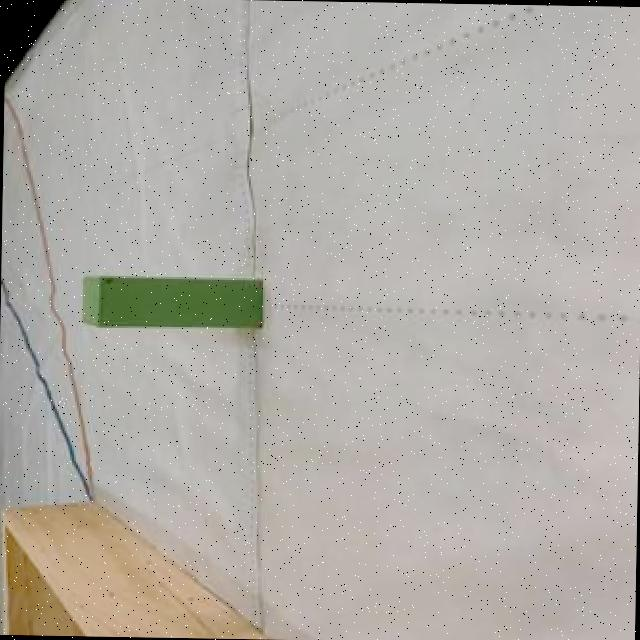greenbox: (78, 276, 266, 333)
